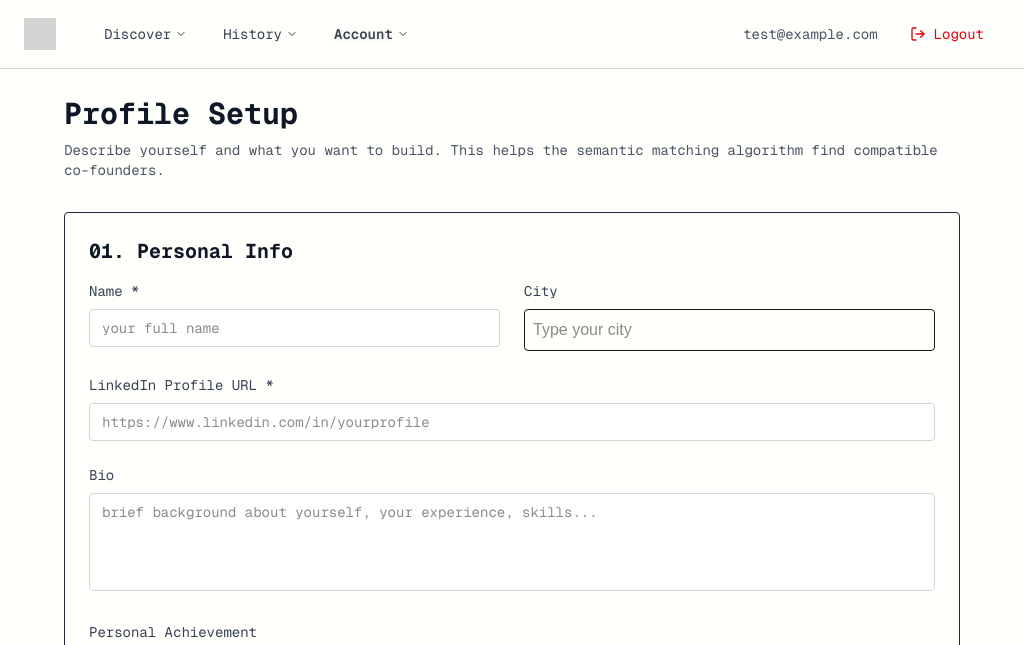
Test: ProfilePage Integration Tests › should save profile as draft without generating embeddings
# Fill in form fields
Type "Jane Smith" into the field with placeholder "your full name" at (294, 328), box [89,309,500,347]
(page scrolled)
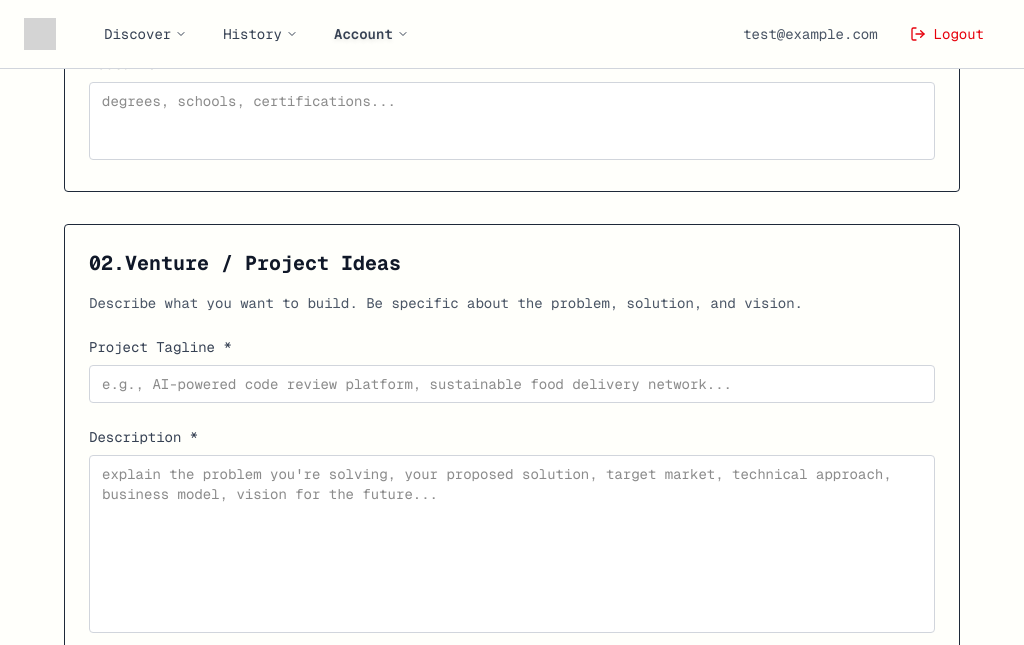
Type "DevTools Pro" into the field with placeholder "AI-powered code review platform" at (512, 384), box [89,365,935,403]
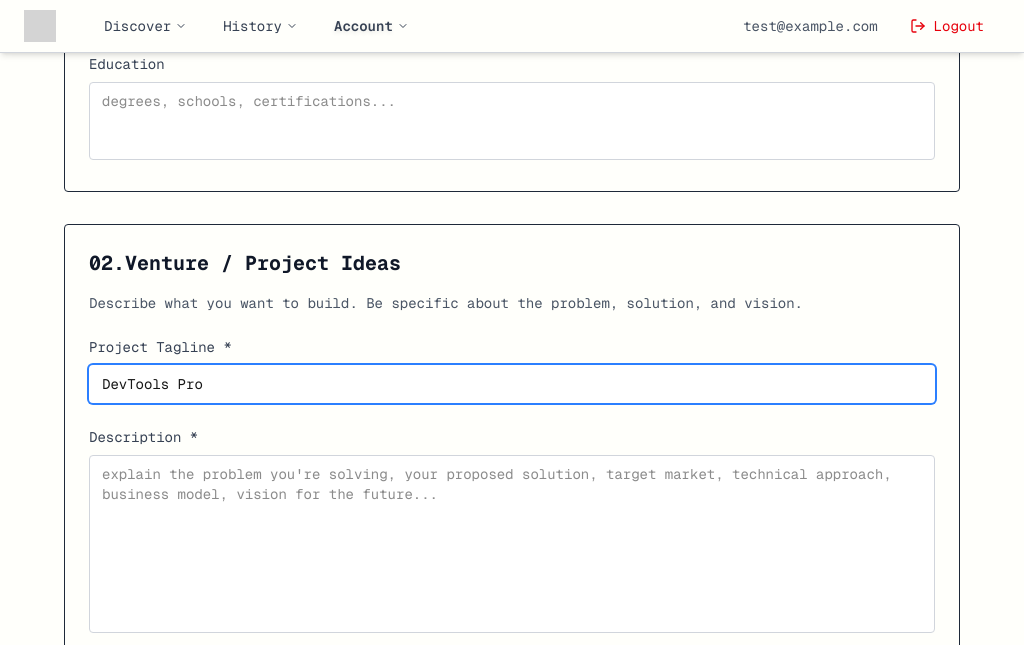
Type "A comprehensive development toolkit for modern teams" into the text box with placeholder "explain the problem you're solving" at (512, 544), box [89,455,935,633]
(page scrolled)
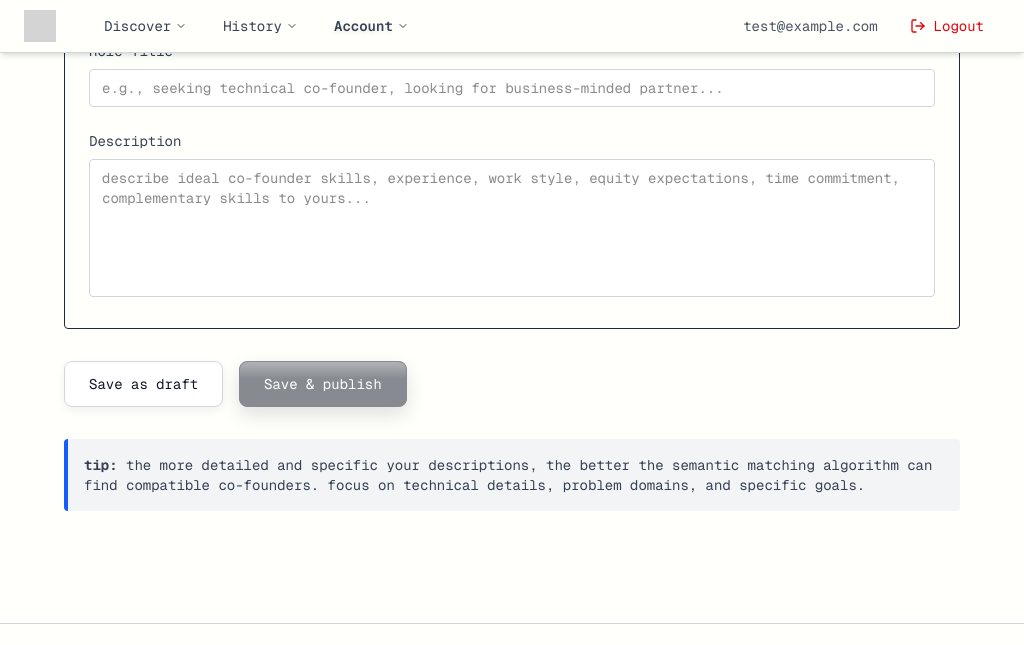
Click the button "Save as draft" at (144, 384), box [64,361,223,407]
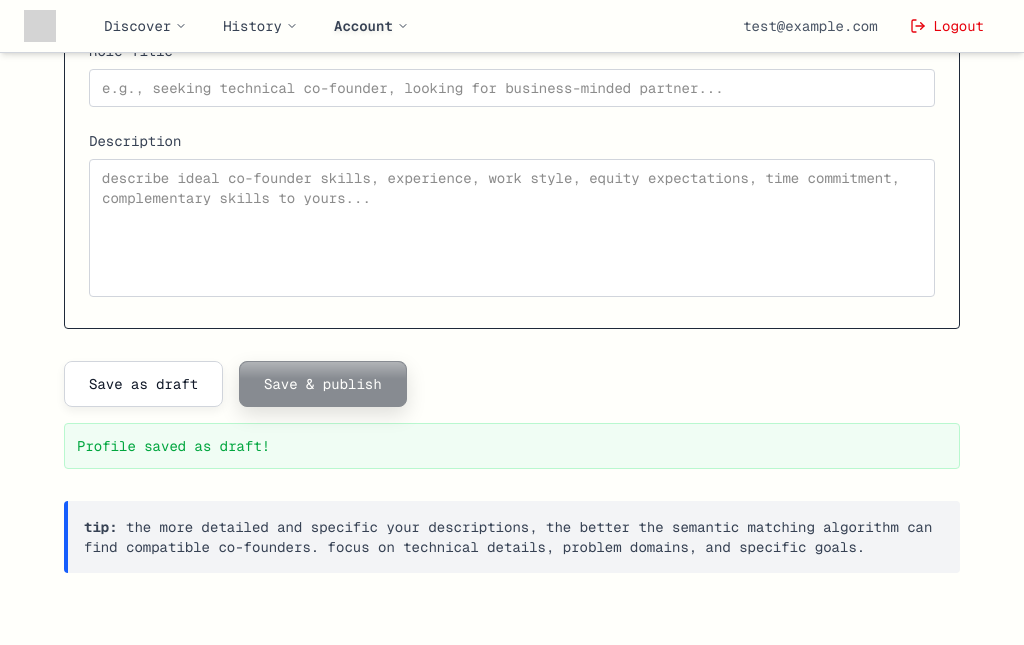
Now the text "Profile saved as draft!" is shown, box [64,423,960,469]
